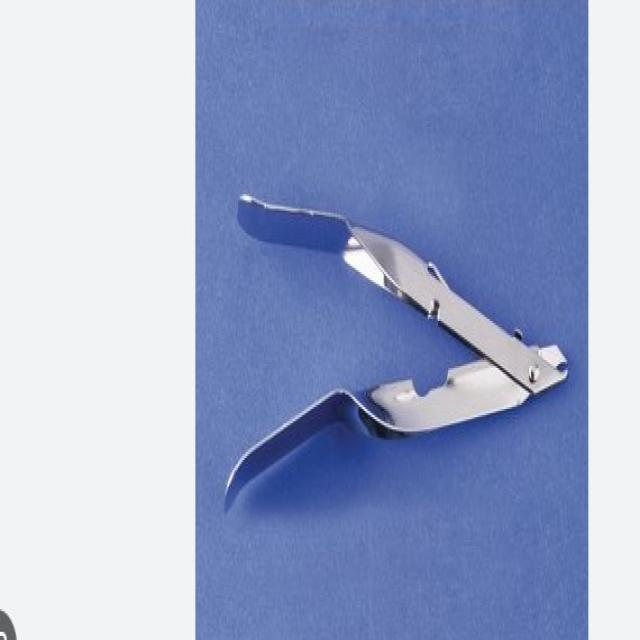Stapler Remover: (219, 172, 573, 523)
